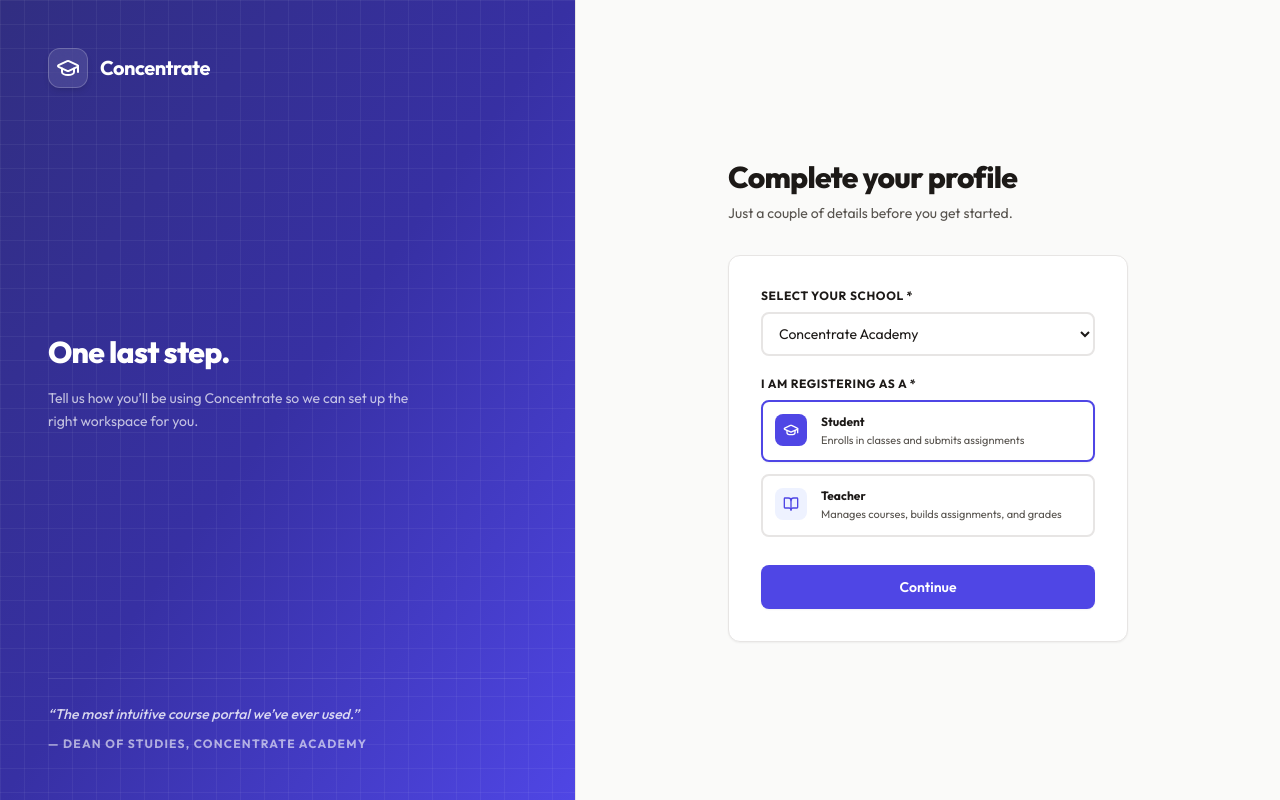
Test: CompleteProfilePage › shows an error toast when saving the profile fails
Click the button "Continue" at {"x": 928, "y": 586}, box x1=761 y1=564 x2=1095 y2=608
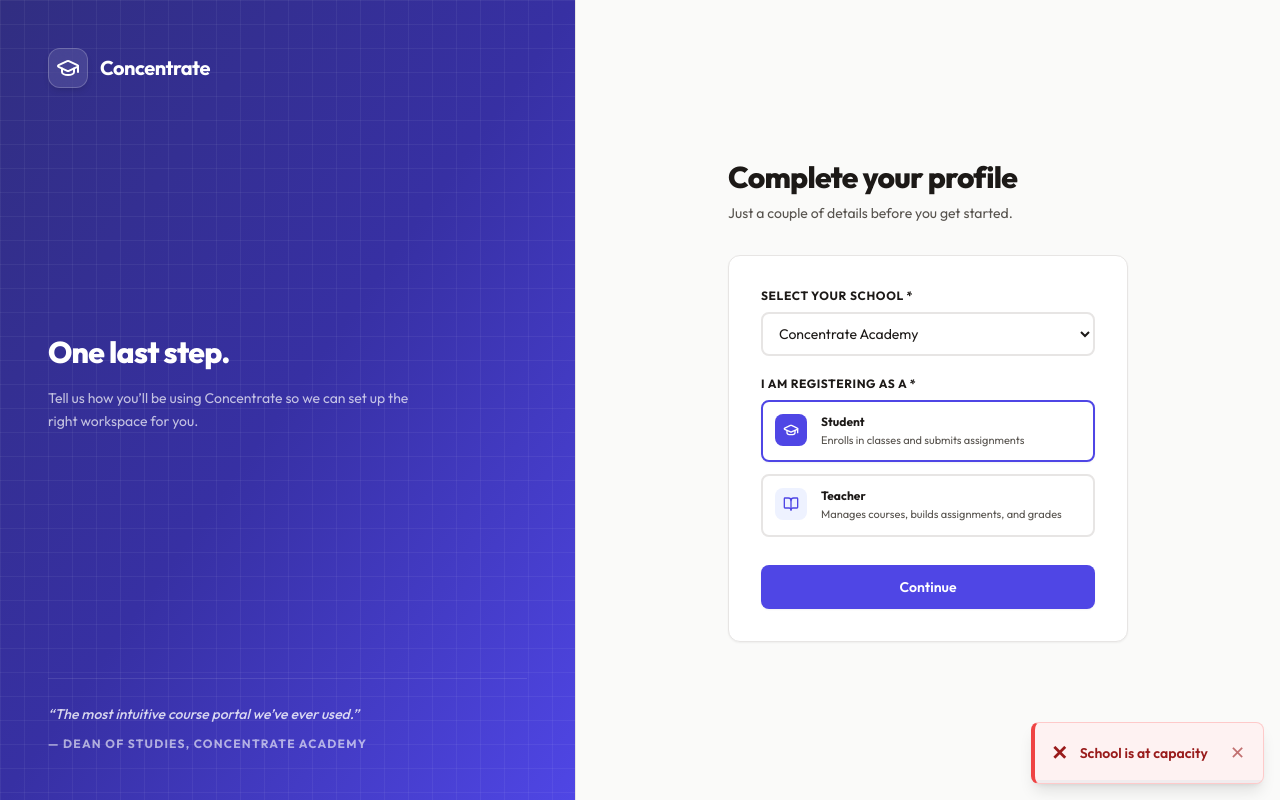
Expected: the text "School is at capacity" is shown, x1=1080 y1=743 x2=1216 y2=763
